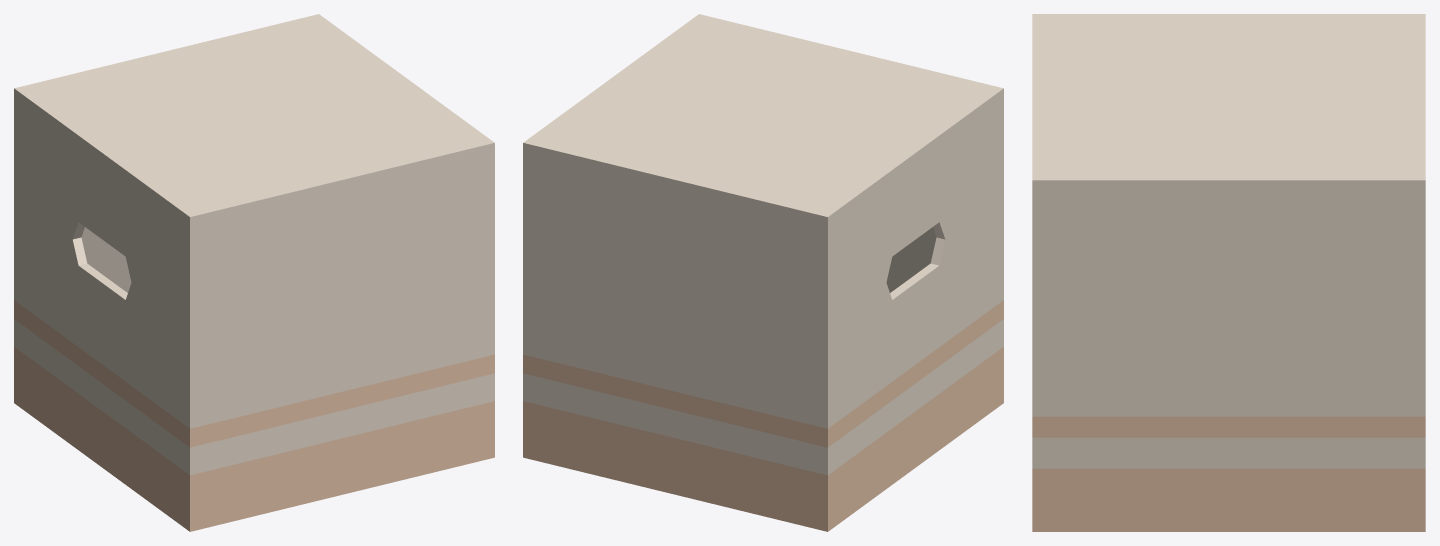
The model's file is CardboardboxCover.fbx.
3 renders of one model, left to right at view 1: azimuth 30°, elevation 25°; view 2: azimuth 150°, elevation 25°; view 3: azimuth 270°, elevation 25°, orthographic. The views are drawn at different scales.
Visible parts, largest first — view 1: CardboardboxCover; view 2: CardboardboxCover; view 3: CardboardboxCover.
Part boxes in pixels (box(x1,y1,x2,y2)): CardboardboxCover: box(14, 14, 494, 531); CardboardboxCover: box(523, 14, 1003, 531); CardboardboxCover: box(1032, 14, 1425, 531).
Bounding box in the file's own units: 0.2541 × 0.2508 × 0.2541.
